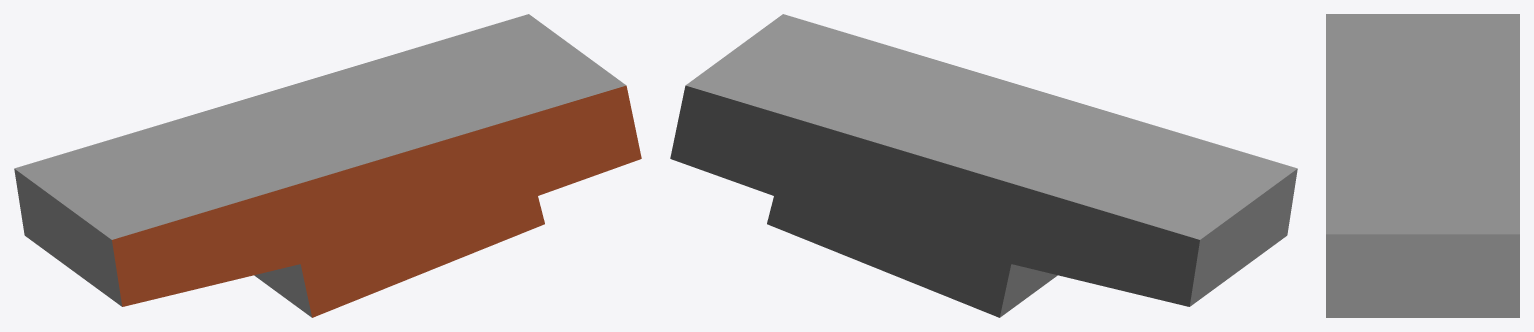
Rendered from construction_2339_assumed_A_Casa_h6m.obj.
The picture shows the model from 3 angles, left to right: view 1: azimuth 30°, elevation 25°; view 2: azimuth 150°, elevation 25°; view 3: azimuth 270°, elevation 25°; orthographic projection.
Visible parts, largest first — view 1: construction_2339_assumed_A_Casa; view 2: construction_2339_assumed_A_Casa; view 3: construction_2339_assumed_A_Casa.
Boxes of the visible parts, <box> form: construction_2339_assumed_A_Casa: <box>14,14,641,317</box>; construction_2339_assumed_A_Casa: <box>670,14,1297,317</box>; construction_2339_assumed_A_Casa: <box>1326,14,1519,317</box>.
Size of the model in its own units: 18.78 by 5.28 by 6.
